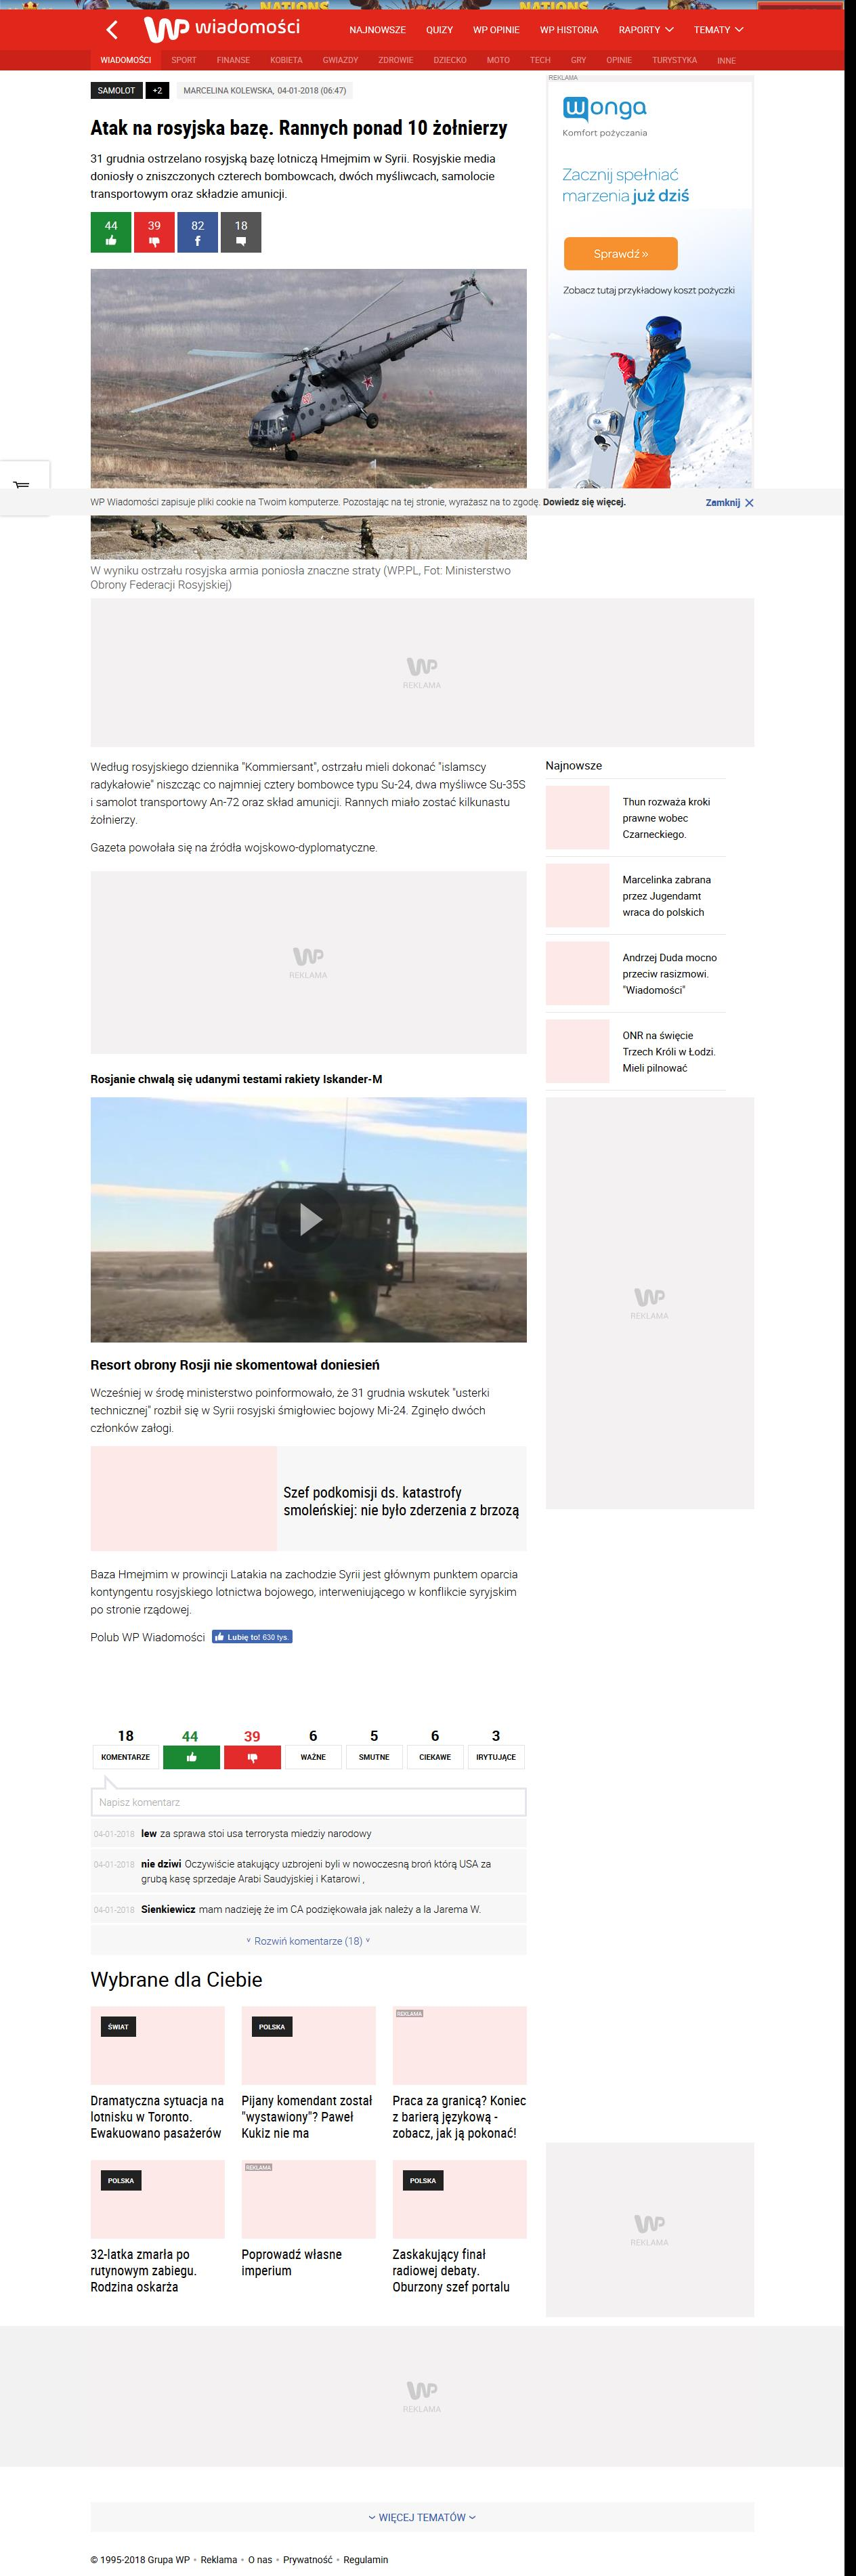title: (90, 118, 508, 140)
